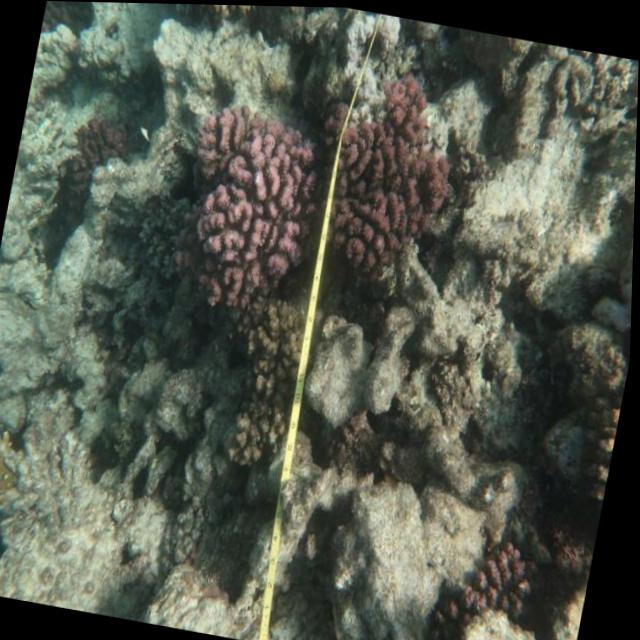Healthy Coral: (151, 68, 343, 311), (308, 59, 478, 294), (211, 294, 321, 469), (435, 527, 566, 625), (53, 97, 142, 210), (0, 421, 29, 529)
